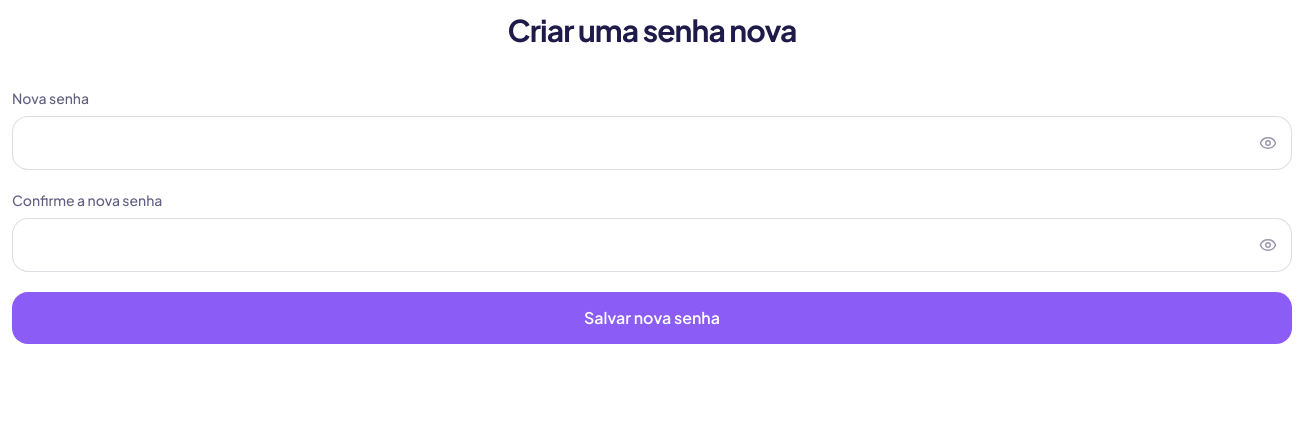
tela de redefinir senha › mostra o erro da API quando o token já foi usado ou expirou
Step 1. Type "senha-nova-longa" into the password field labelled "Nova senha" → (652, 143), box x1=12 y1=116 x2=1292 y2=170
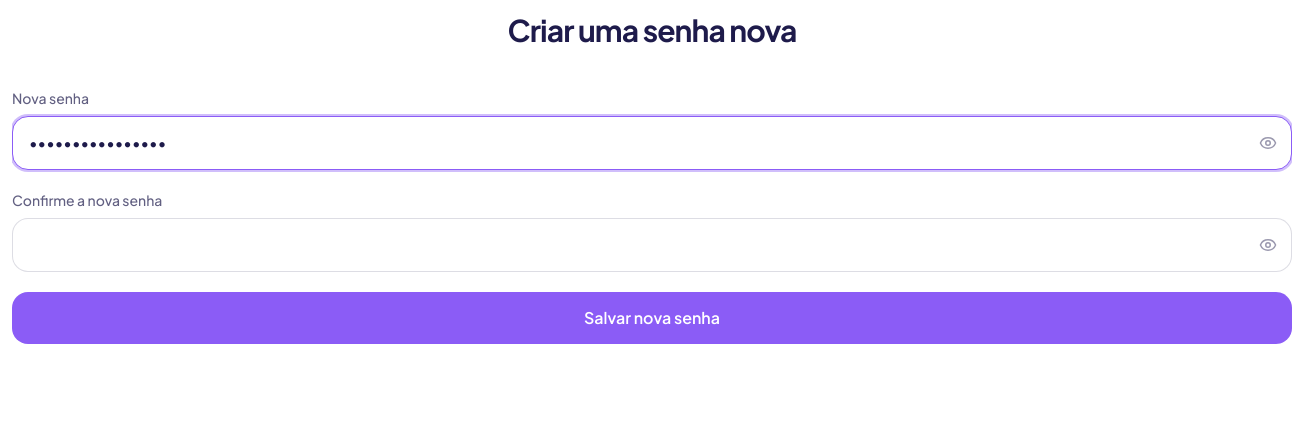
Step 2. Type "senha-nova-longa" into the password field labelled "Confirme a nova senha" → (652, 245), box x1=12 y1=218 x2=1292 y2=272
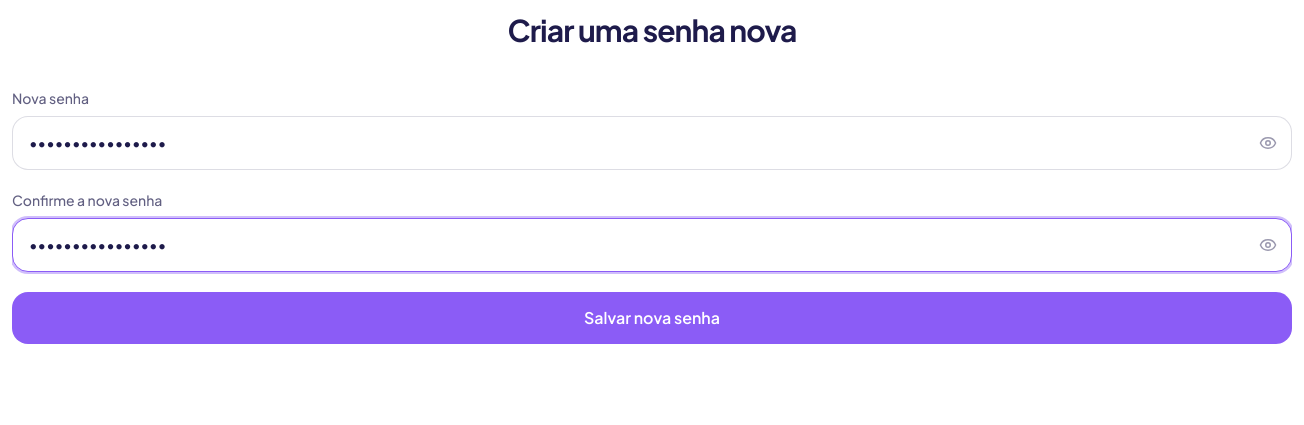
Step 3. Click the button "Salvar nova senha" → click(652, 318), box x1=12 y1=292 x2=1292 y2=344
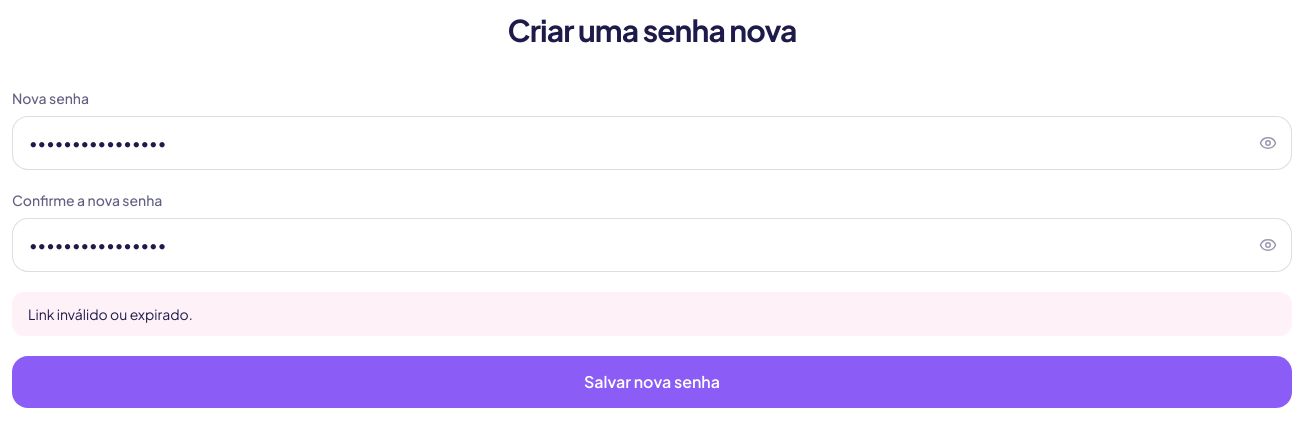
Now the message reads "Link inválido ou expirado.", box x1=28 y1=305 x2=193 y2=323
